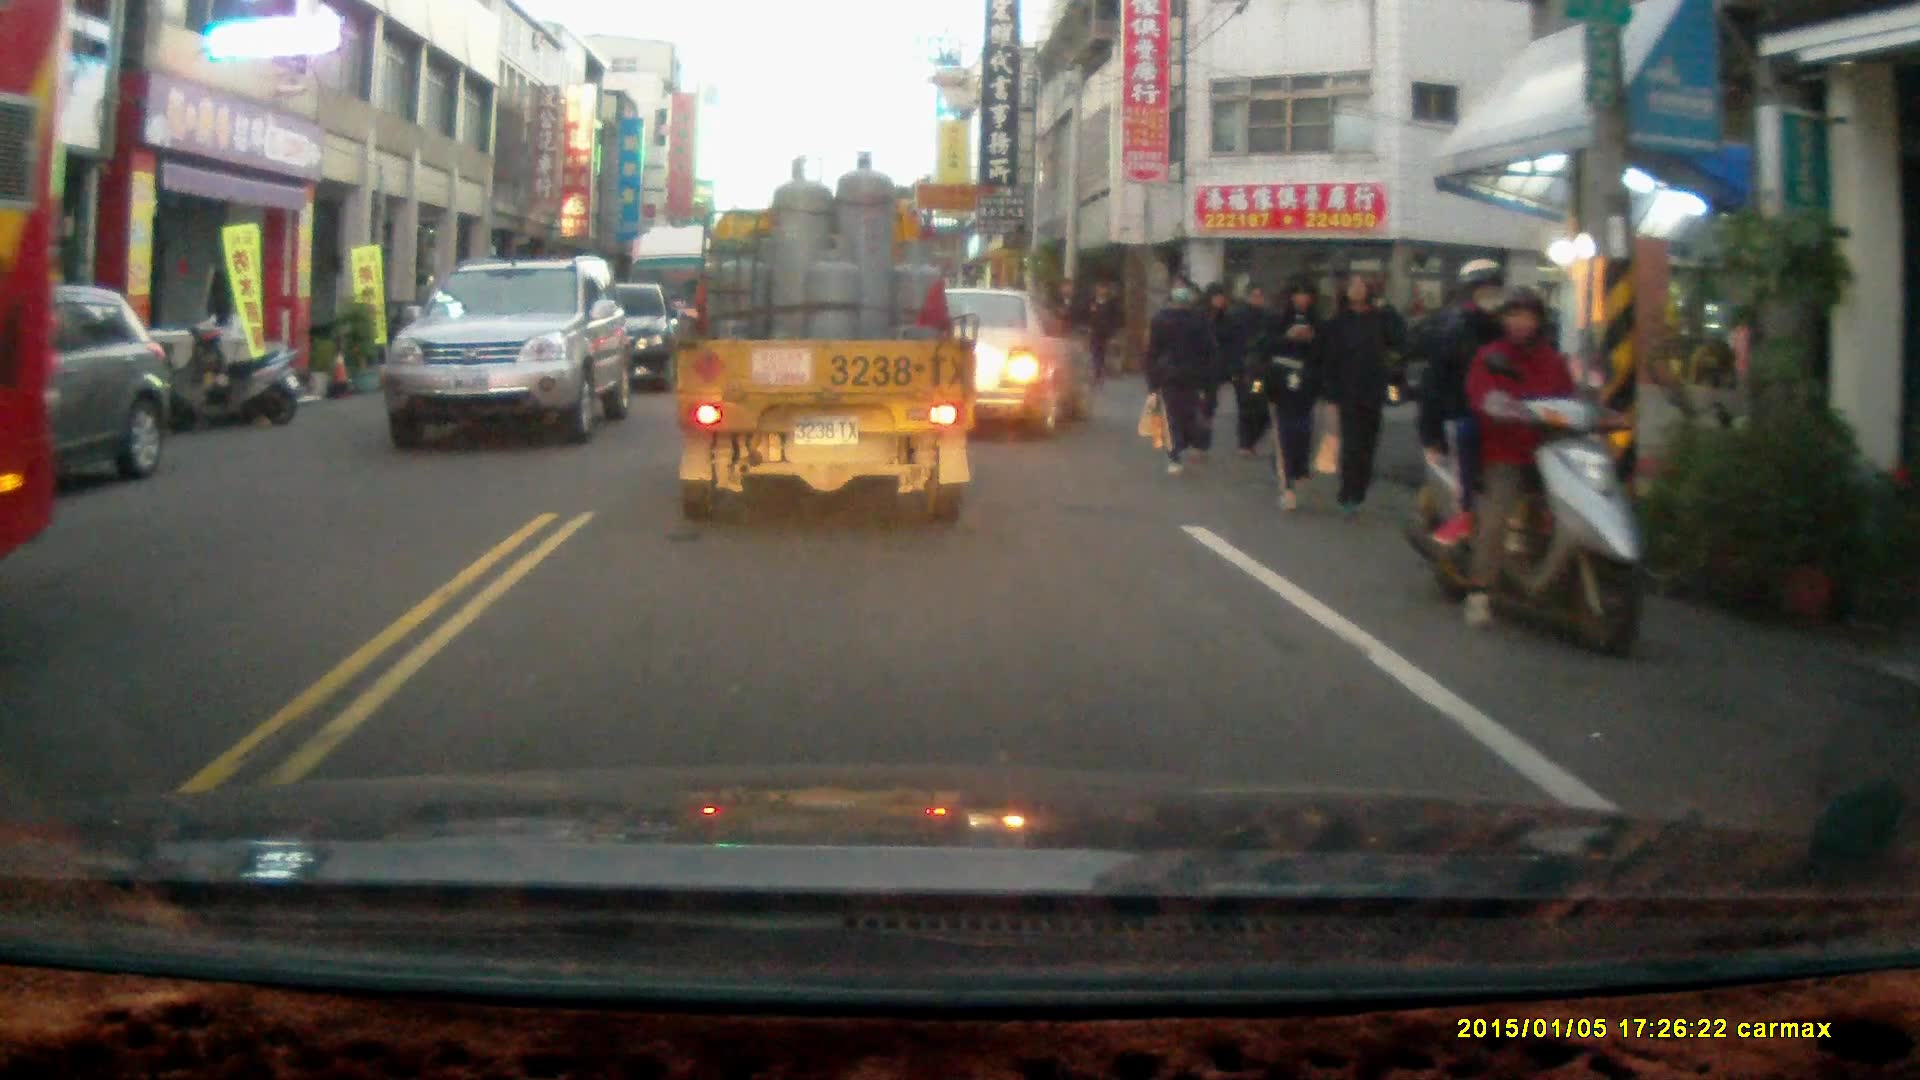pedestrian: (1316, 269, 1405, 514), (1253, 272, 1329, 514), (1145, 273, 1213, 475), (1221, 280, 1285, 453), (1187, 283, 1238, 455), (1081, 278, 1121, 394), (1047, 275, 1087, 387)
rider: (1397, 255, 1647, 654)
vehicle: (672, 147, 977, 525), (387, 258, 637, 454), (0, 276, 177, 492), (1, 7, 69, 568), (896, 286, 1107, 441)
